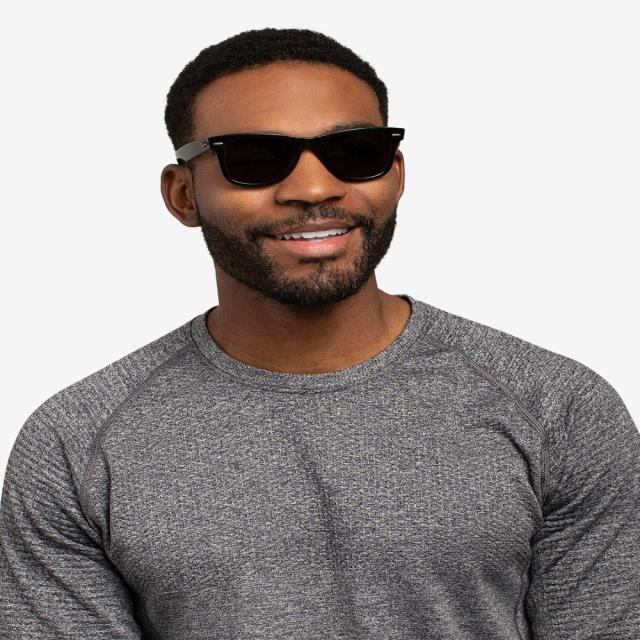2_gafas: (174, 125, 405, 188)
